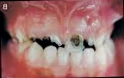Caries: (69, 33, 83, 50)
